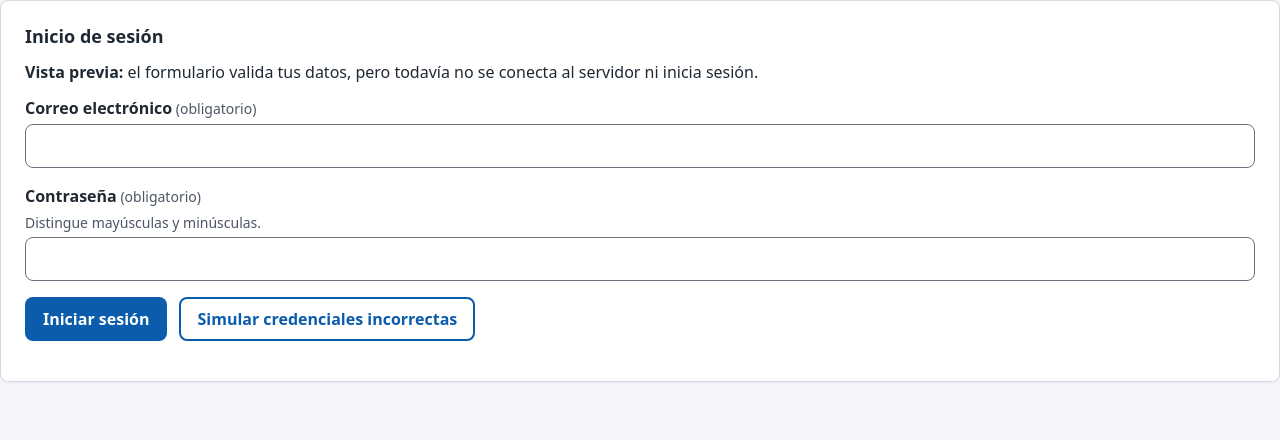
Test case: FormularioLoginDemo (integración de InputField, Button y Card) › la simulación 401 muestra el mensaje real del backend en role=alert
Click the button "Simular credenciales incorrectas" at [327, 319], box [180, 297, 475, 341]
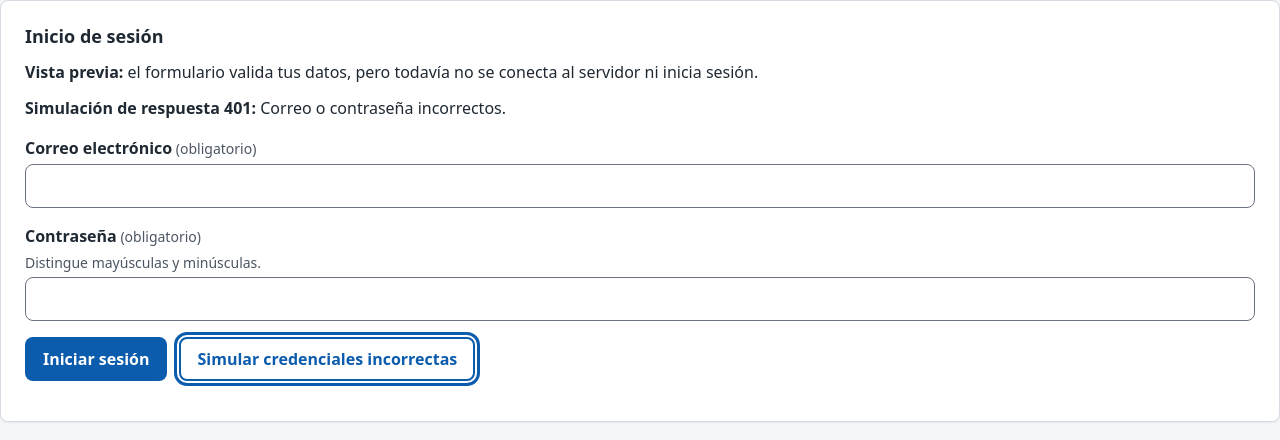
Result: the message shows "Correo o contraseña incorrectos." at [260, 97, 506, 119]
